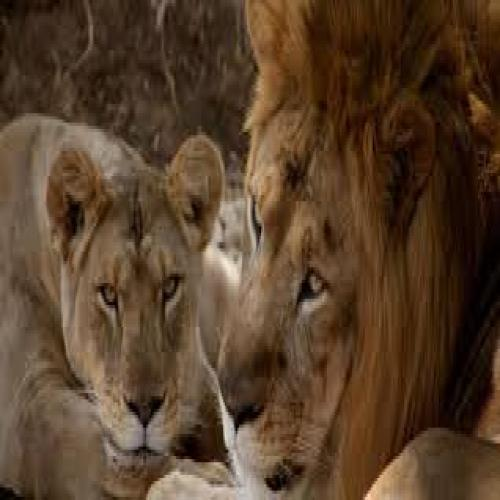lion-endangered: (221, 0, 500, 500), (2, 109, 236, 500)
